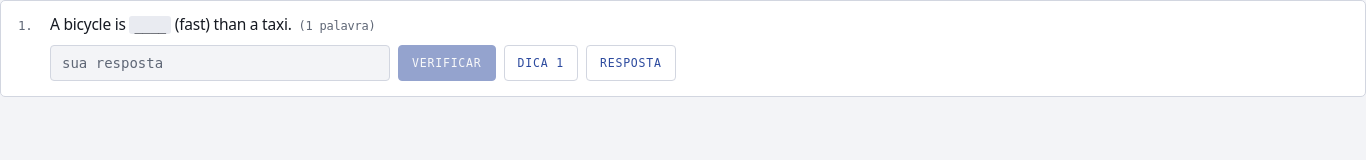
Test: ExerciseCard › aguarda confirmação da persistência antes de mostrar Na fila
Step 1. Type "faster" into the field → (220, 63), box [50, 45, 390, 81]
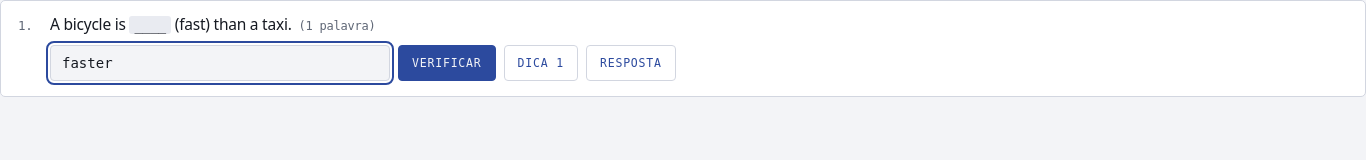
Step 2. Click the button "Verificar" → (447, 63), box [398, 45, 496, 81]
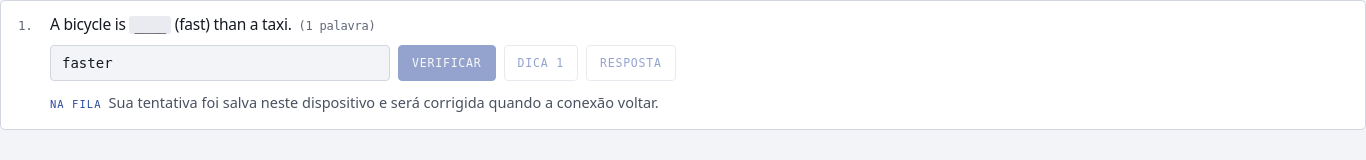
Expected: the field is disabled, [50, 45, 390, 81]
Expected: the button "Verificar" is disabled, [398, 45, 496, 81]
Expected: the text "Na fila" is shown, [50, 98, 102, 110]
